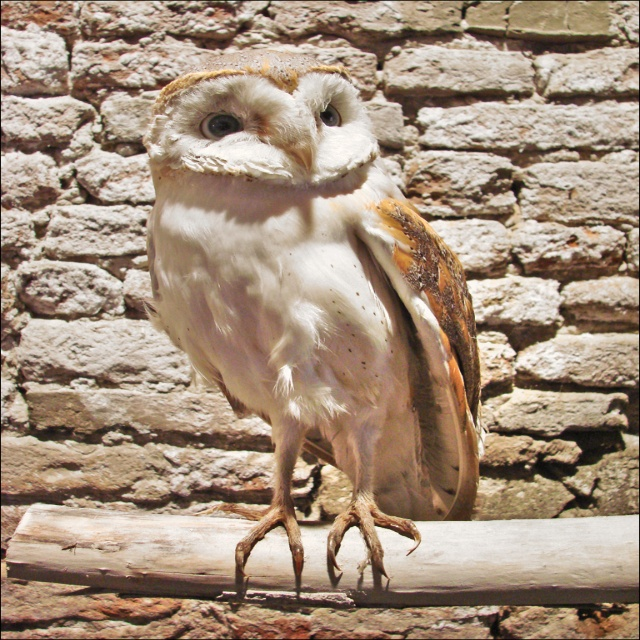Owl: (154, 74, 492, 592)
